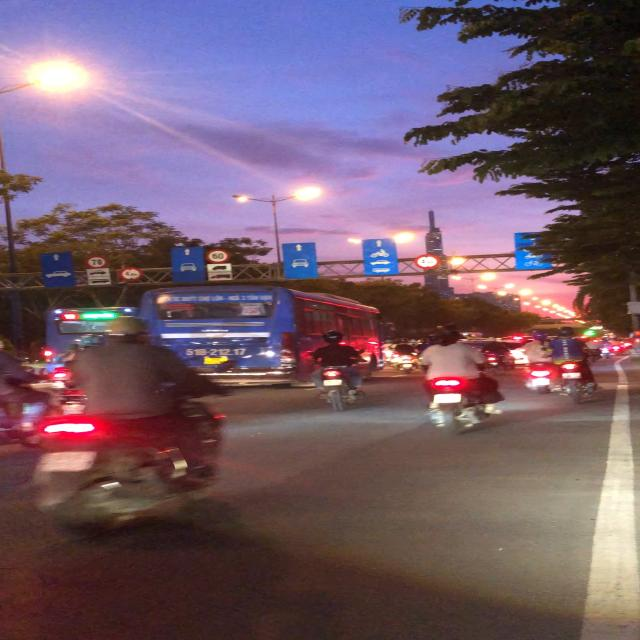Bien bao han che chieu cao: (412, 254, 442, 270), (119, 265, 145, 283)
Bien bao toc do toi da cho phep: (200, 248, 234, 264), (82, 255, 112, 269)
